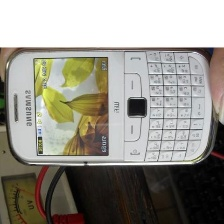phone: (2, 43, 221, 168)
